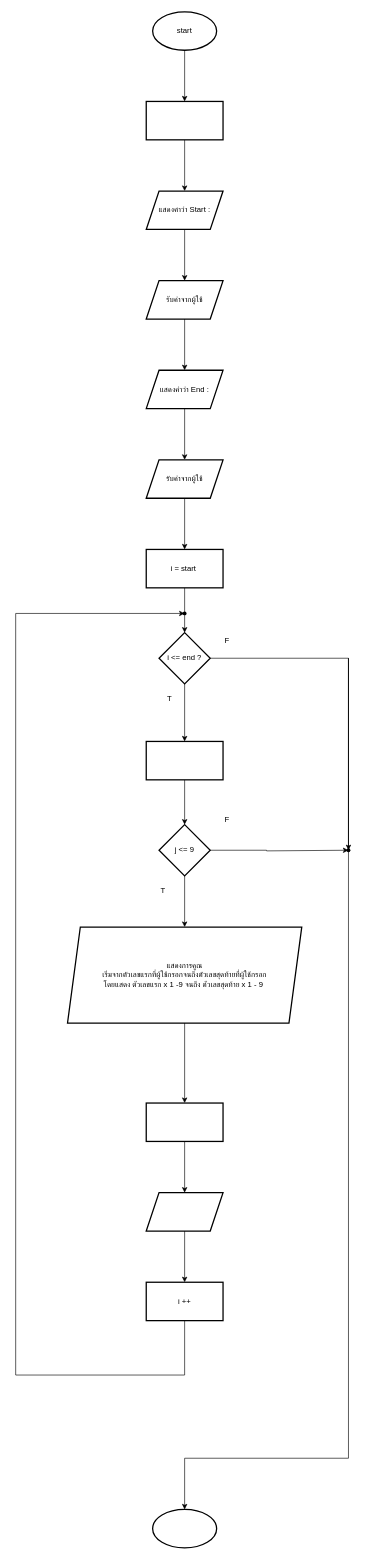
Image size: 366x1559. Some labels were removed from this diagram. The centre of each missing label's shape, as x and y in pixels:
"end" goes at pixel 184 1528.
"j ++" goes at pixel 184 1122.
"j = 1" goes at pixel 184 760.
"กำหนดตัวแปร start / end / i / j" goes at pixel 184 120.
"เว้นบรรทัด" goes at pixel 184 1211.
